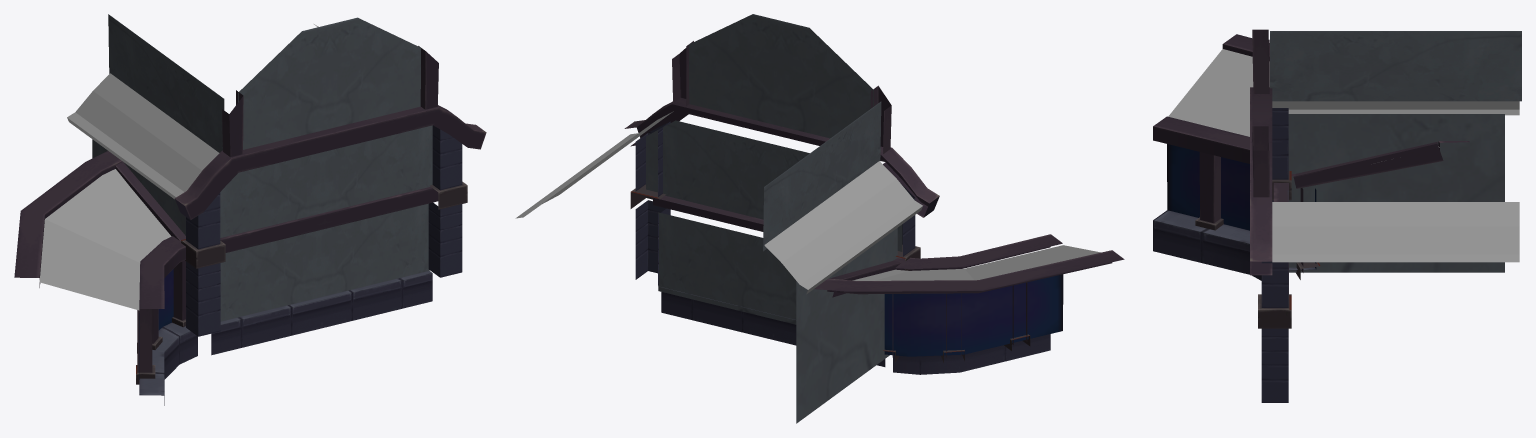
File: cs_zhucheng_jiuguan_001.FBX
The picture shows the model from 3 angles, left to right: view 1: azimuth 30°, elevation 25°; view 2: azimuth 150°, elevation 25°; view 3: azimuth 270°, elevation 25°; orthographic projection. The views are drawn at different scales.
Parts seen in each view (by area): view 1: cs_zhucheng_jiuguan_001; view 2: cs_zhucheng_jiuguan_001; view 3: cs_zhucheng_jiuguan_001.
Part boxes in pixels (x1,y1,x2,y2): cs_zhucheng_jiuguan_001: (14, 14, 486, 405); cs_zhucheng_jiuguan_001: (515, 14, 1124, 423); cs_zhucheng_jiuguan_001: (1153, 29, 1521, 402).
Size of the model in its own units: 669 by 411 by 414.
